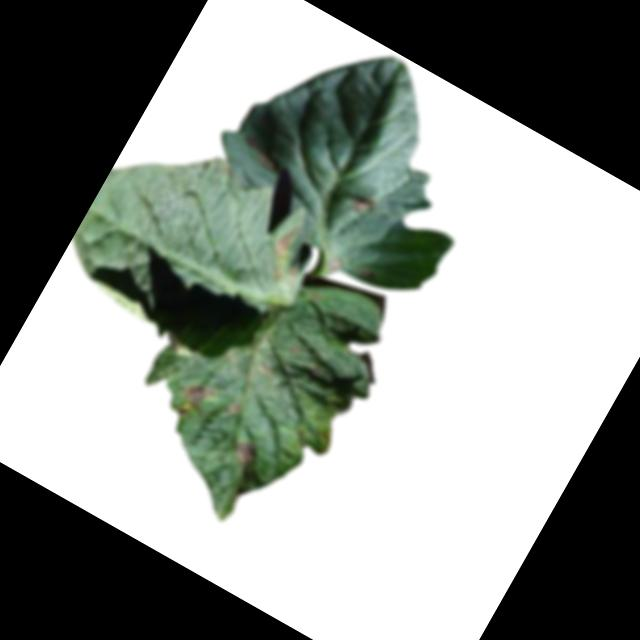Early_blight: (257, 224, 315, 289), (172, 372, 215, 416), (229, 437, 260, 469), (348, 188, 380, 218), (324, 253, 345, 274), (225, 398, 242, 416)
